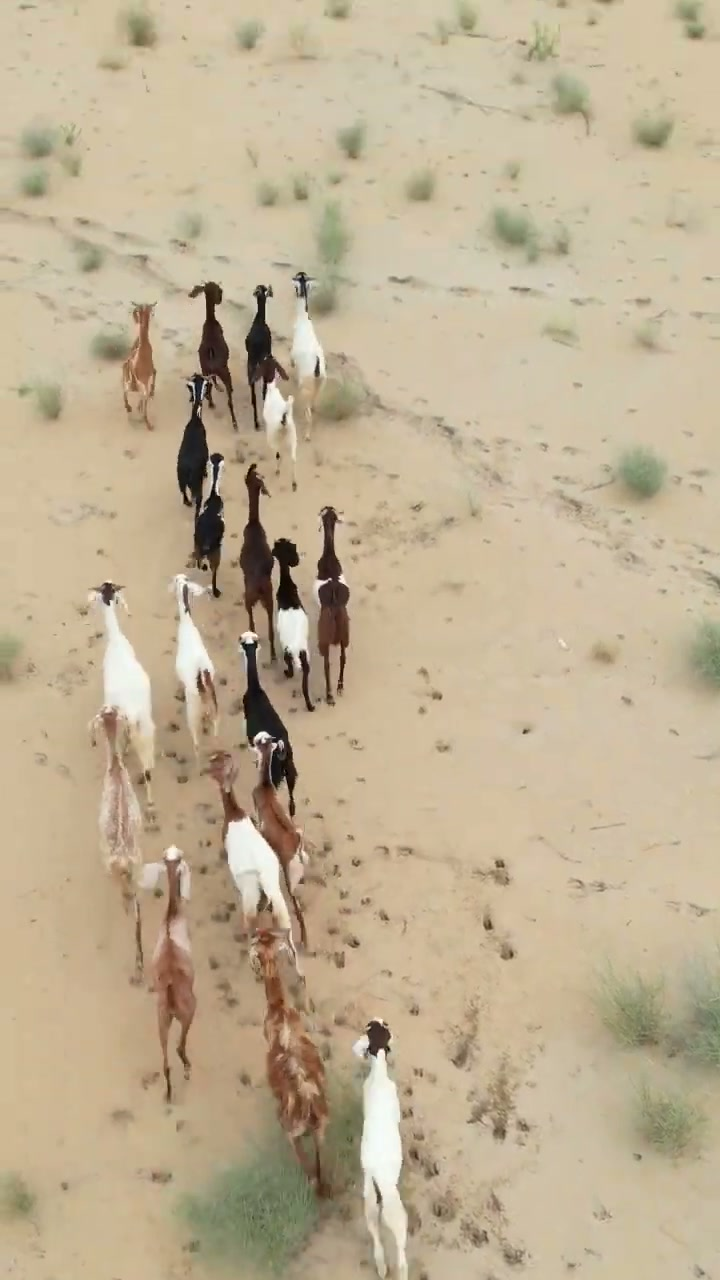animal_foot_print: (321, 783, 564, 1265), (167, 753, 303, 1234)
